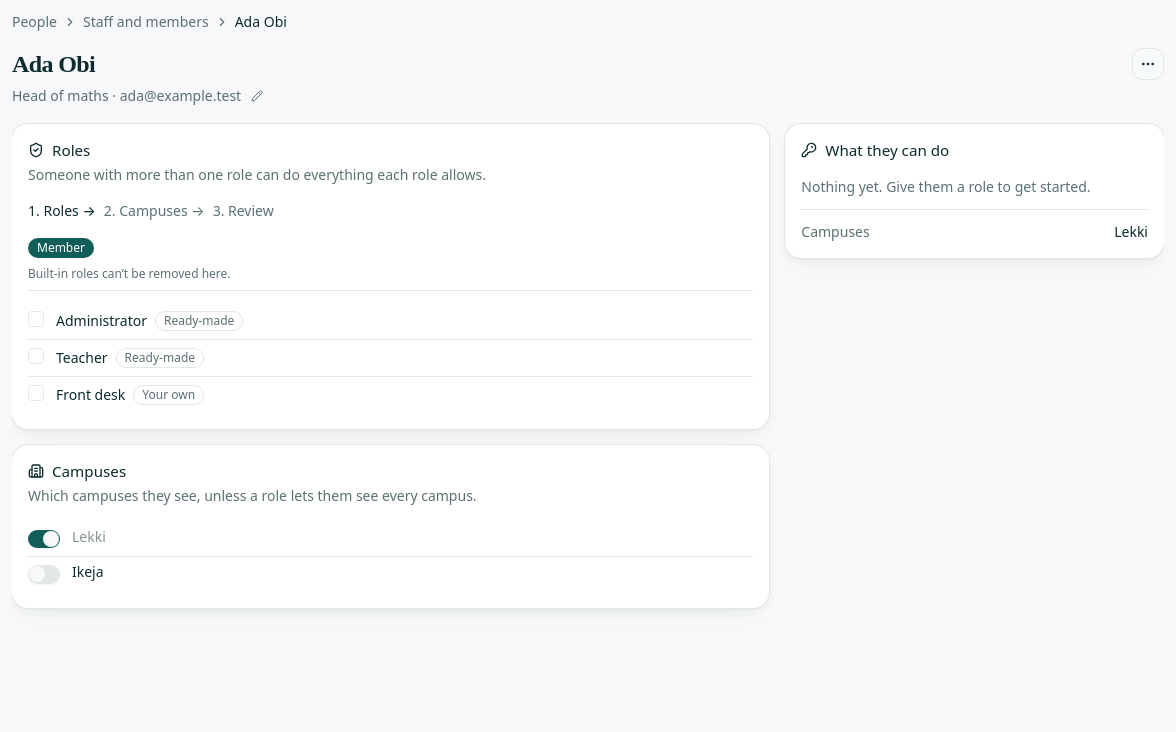
Test: MemberPage › hides Remove without member:delete but still offers a reset
Click the button named "More actions" at (1148, 64), box [1132, 48, 1164, 80]
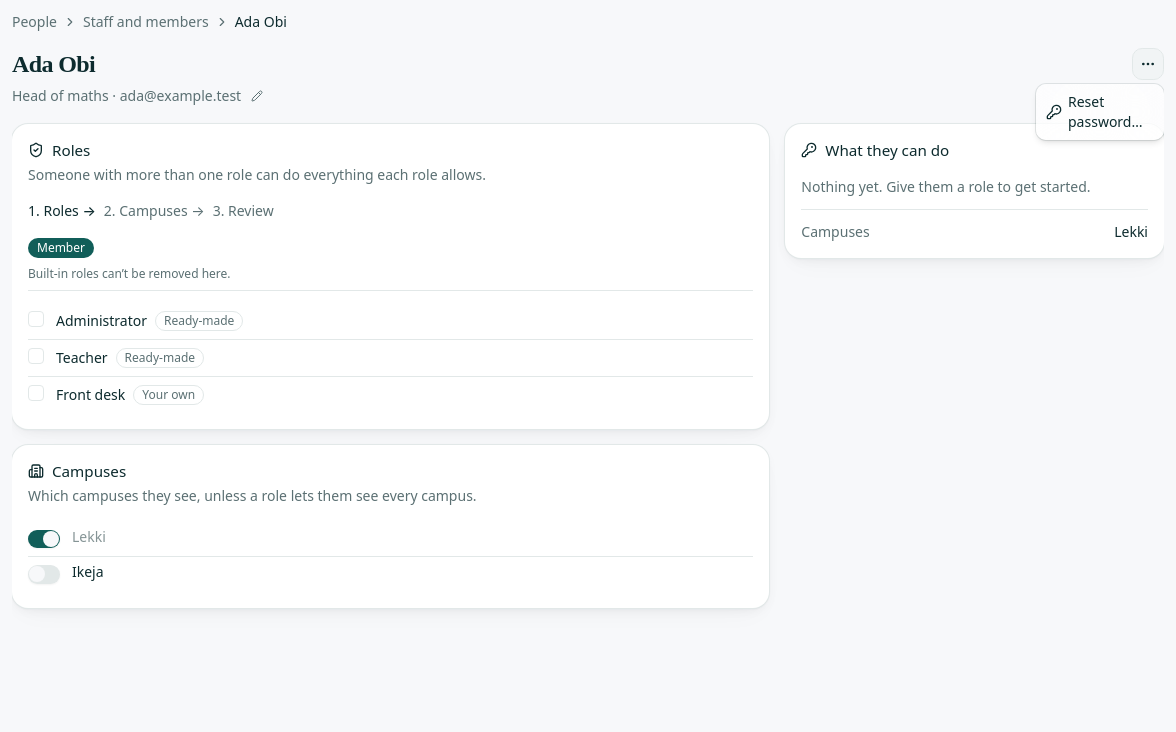
Expected: the menu item "Reset password…" is shown, [1046, 92, 1142, 131]
